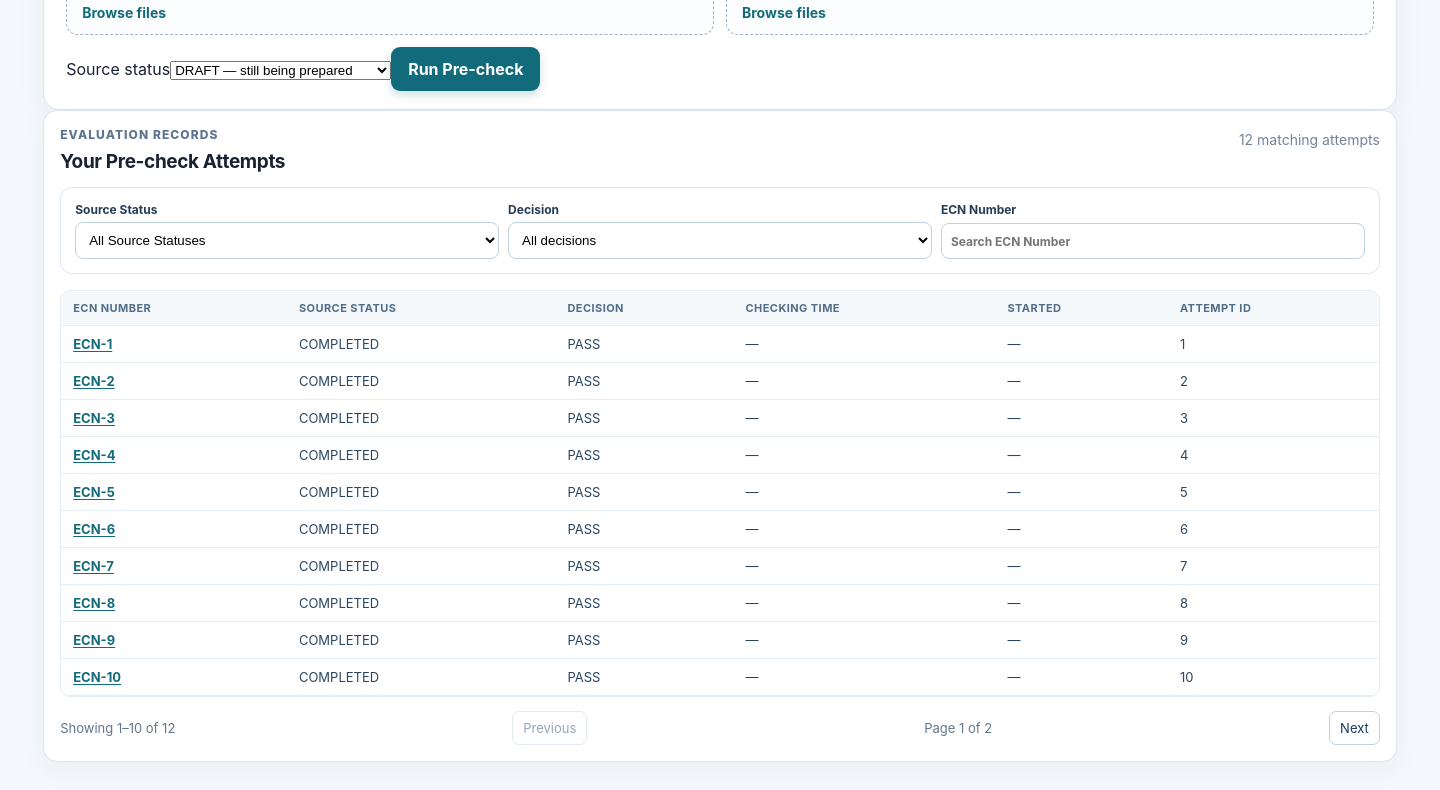
Test case: tester pre-check workflow › shows tester evaluation records in pages of ten
The width and height of the screenshot is (1440, 790).
(page scrolled)
Expected: the button "ECN-1" is shown, [73,336,112,352]
Expected: the text "ECN-11" is not shown
What coordinates should you click on to do the following:
click the button "Next"
I would click on:
 (1354, 728)
Its box is [1329,711,1380,745].
(page scrolled)
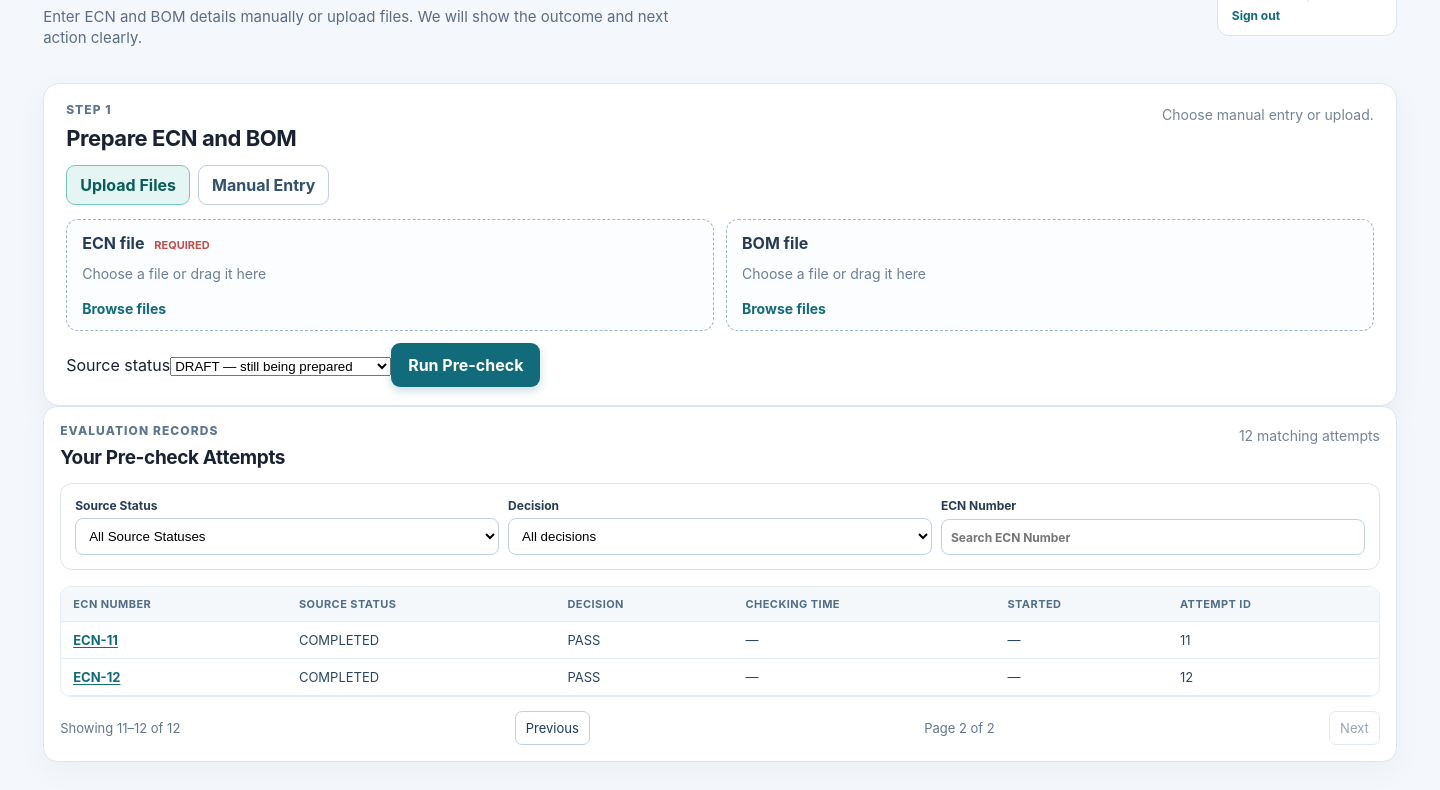
Result: the button "ECN-11" is shown at [73,632,118,648]
Result: the button "ECN-12" is shown at [73,669,120,685]
